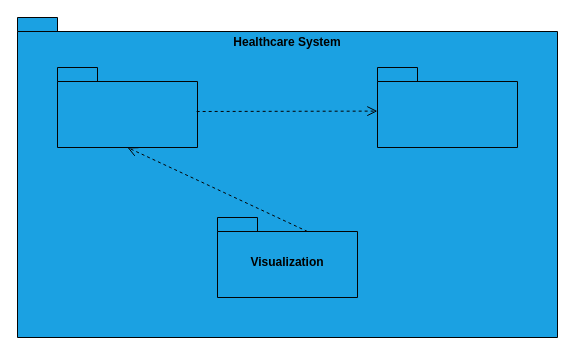
Some shapes in this 575 by 355 pixel diagram are drawn without their labels. The shapes that lost their labels are listed below. From the top down, each one's centre as x and y in pixels, then its label:
pixel 127 107: MDBackoffice
pixel 447 107: Planning
